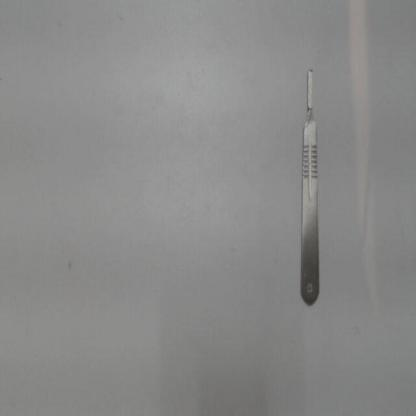No.4 BP Handle: (297, 63, 323, 312)
